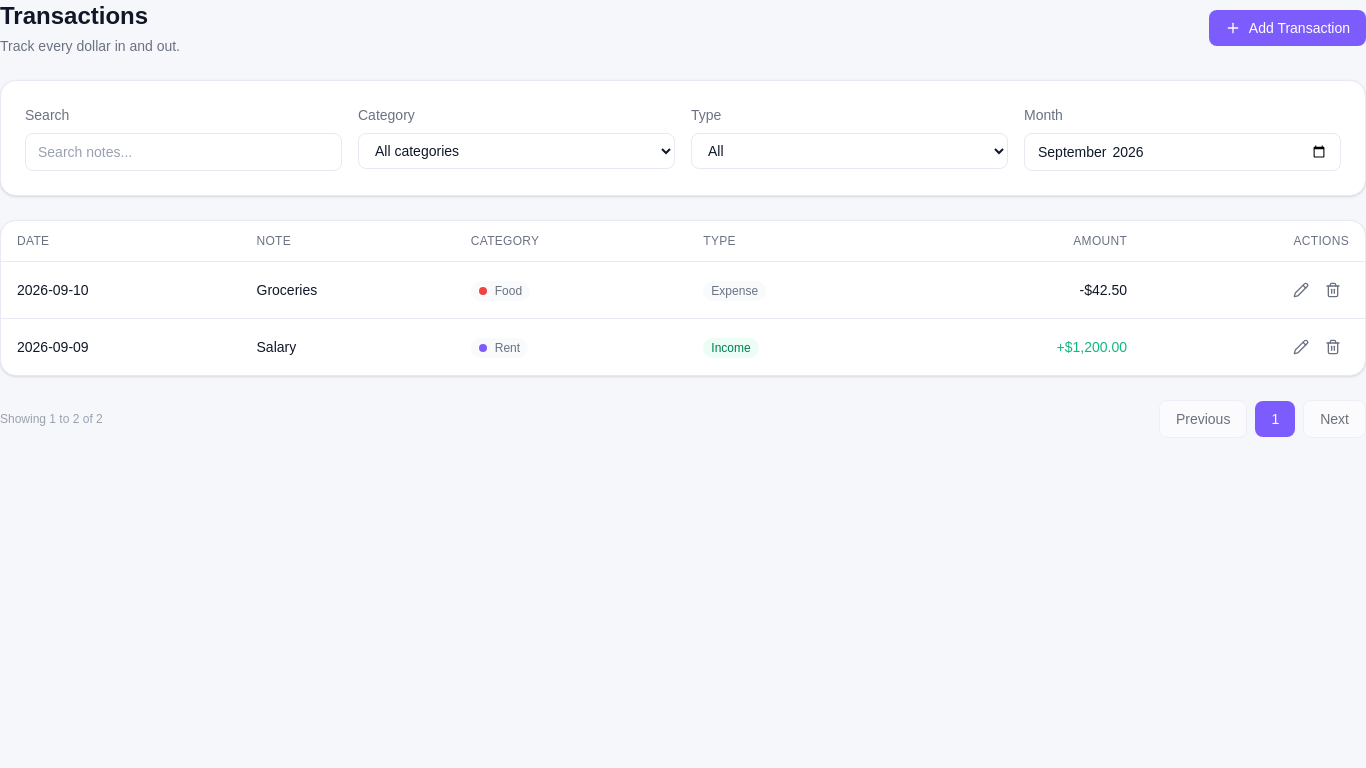
TransactionsView › opens the edit dialog from a row action
What coordinates should you click on to do the following:
click the button named "Edit transaction tx_1"
I would click on:
 (1301, 290)
Its box is left=1285, top=274, right=1317, bottom=306.
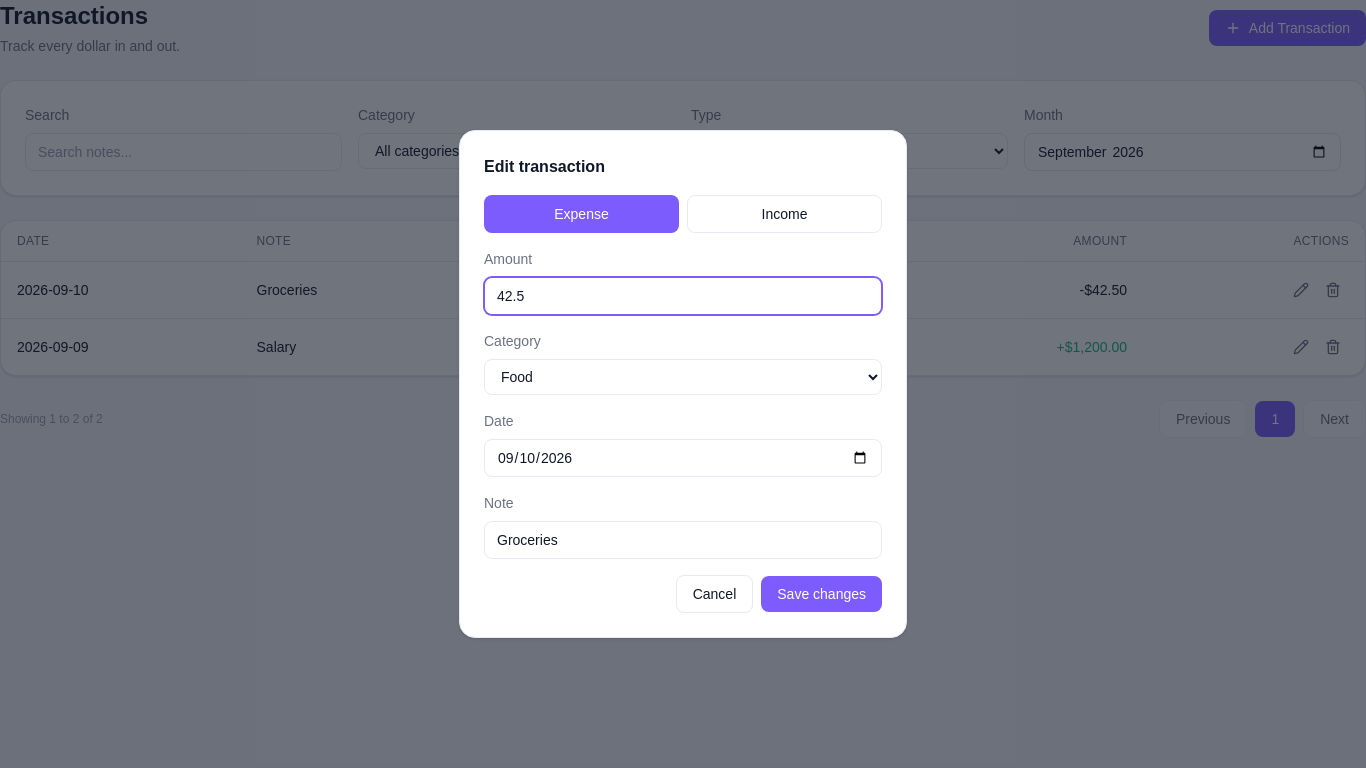
Expected: the dialog "Edit transaction" is shown, left=459, top=130, right=907, bottom=638
